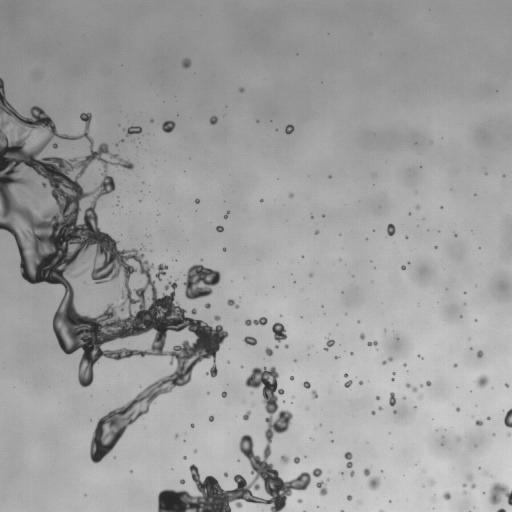droplet: (183, 264, 220, 299), (489, 482, 511, 506), (272, 322, 286, 341), (155, 263, 167, 281), (125, 126, 141, 136), (162, 120, 175, 132), (475, 375, 488, 387), (316, 481, 327, 495), (325, 336, 334, 350), (243, 336, 256, 345), (389, 392, 396, 406), (285, 124, 294, 134), (387, 224, 395, 235), (242, 411, 251, 420), (280, 455, 289, 464), (442, 491, 451, 500), (182, 58, 190, 68), (367, 340, 377, 347), (209, 116, 217, 124), (265, 347, 273, 355), (344, 380, 352, 388), (303, 381, 310, 388), (311, 390, 317, 398), (216, 226, 223, 232), (466, 474, 472, 481), (475, 420, 483, 425), (293, 457, 299, 463), (224, 211, 229, 218), (477, 350, 482, 357), (52, 142, 57, 148), (191, 308, 196, 314), (214, 315, 220, 320), (221, 391, 226, 397), (346, 495, 352, 500), (205, 303, 210, 308), (179, 479, 184, 484), (360, 333, 364, 339), (209, 415, 213, 421), (350, 470, 354, 476), (239, 87, 243, 92), (426, 381, 431, 385), (224, 472, 228, 477), (430, 479, 434, 484), (471, 483, 475, 488), (289, 193, 293, 197), (195, 199, 199, 203), (401, 265, 405, 269), (284, 344, 288, 348), (344, 373, 348, 377), (359, 381, 363, 385), (504, 383, 508, 387), (378, 406, 382, 410), (456, 407, 460, 411), (371, 410, 375, 414), (462, 483, 466, 487), (315, 230, 318, 234), (309, 273, 313, 276), (453, 364, 457, 367), (191, 423, 194, 427), (298, 499, 301, 503), (418, 355, 421, 358), (290, 376, 293, 379), (376, 396, 379, 399), (175, 434, 178, 437), (416, 206, 420, 208), (150, 119, 153, 121), (328, 175, 331, 177), (23, 193, 26, 195), (260, 199, 263, 201), (223, 248, 226, 250), (275, 345, 277, 348), (335, 356, 338, 358), (294, 359, 296, 362), (393, 411, 396, 413), (183, 456, 185, 459), (121, 139, 123, 141), (434, 246, 436, 248), (487, 417, 489, 419), (457, 438, 459, 440)
ligament: (0, 78, 228, 463), (157, 366, 321, 511), (363, 468, 379, 489), (245, 317, 267, 325), (344, 452, 353, 469), (504, 408, 511, 427), (227, 299, 239, 308), (406, 383, 417, 392), (382, 357, 393, 364), (497, 508, 506, 511), (379, 510, 384, 511)
